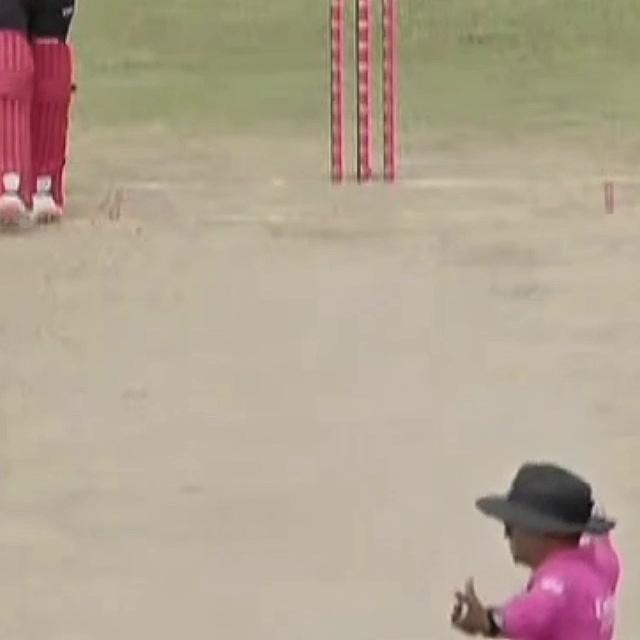umpire: (435, 450, 640, 640), (430, 460, 640, 640)
